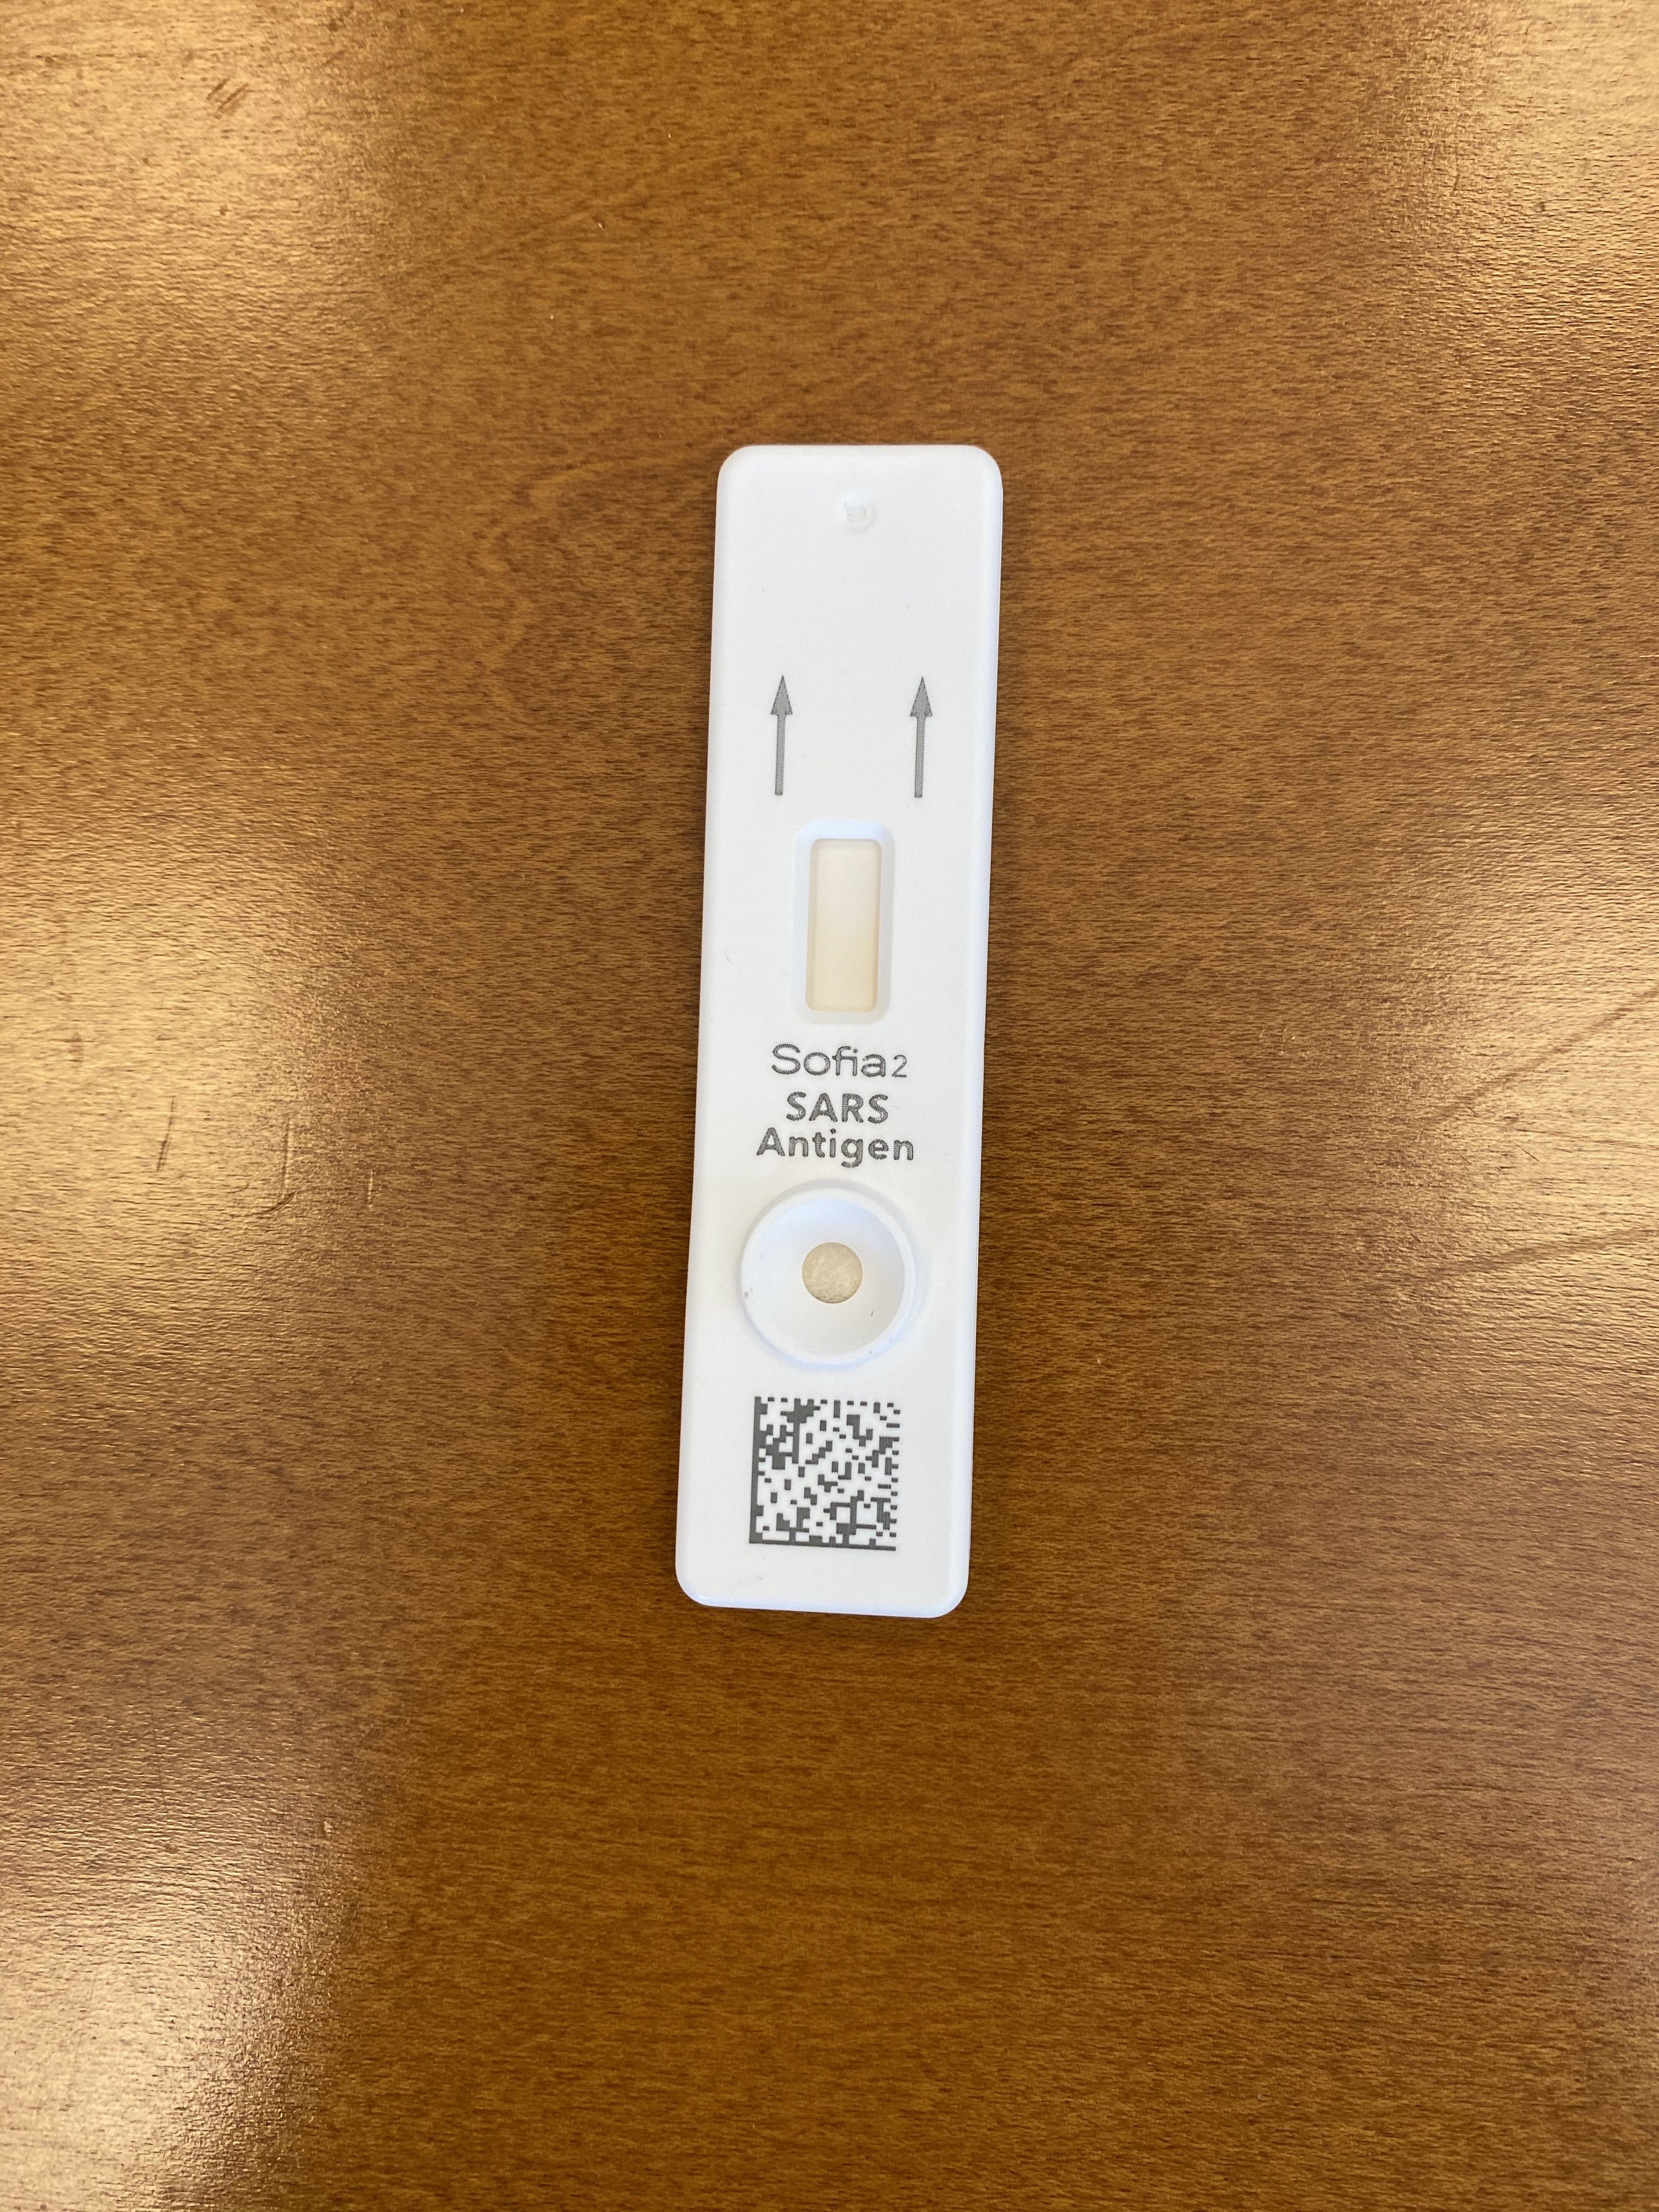quidel: (641, 434, 1019, 1630)
